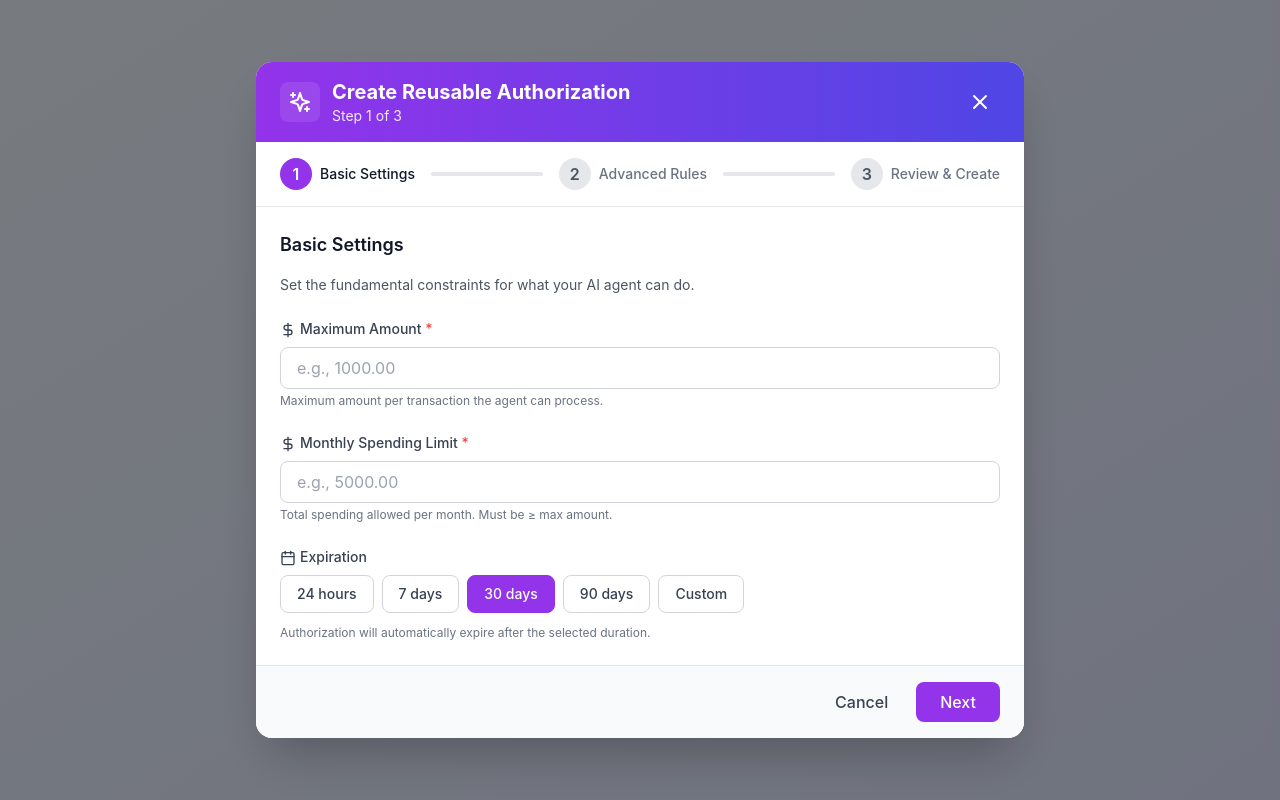
Test case: AP2 Components › ConstraintBuilder › should allow navigation between steps
Fill required fields before navigating
Type "500" into the number field with placeholder "e.g., 1000.00" at coordinates (640, 368), box top-left (280, 347), bottom-right (1000, 389)
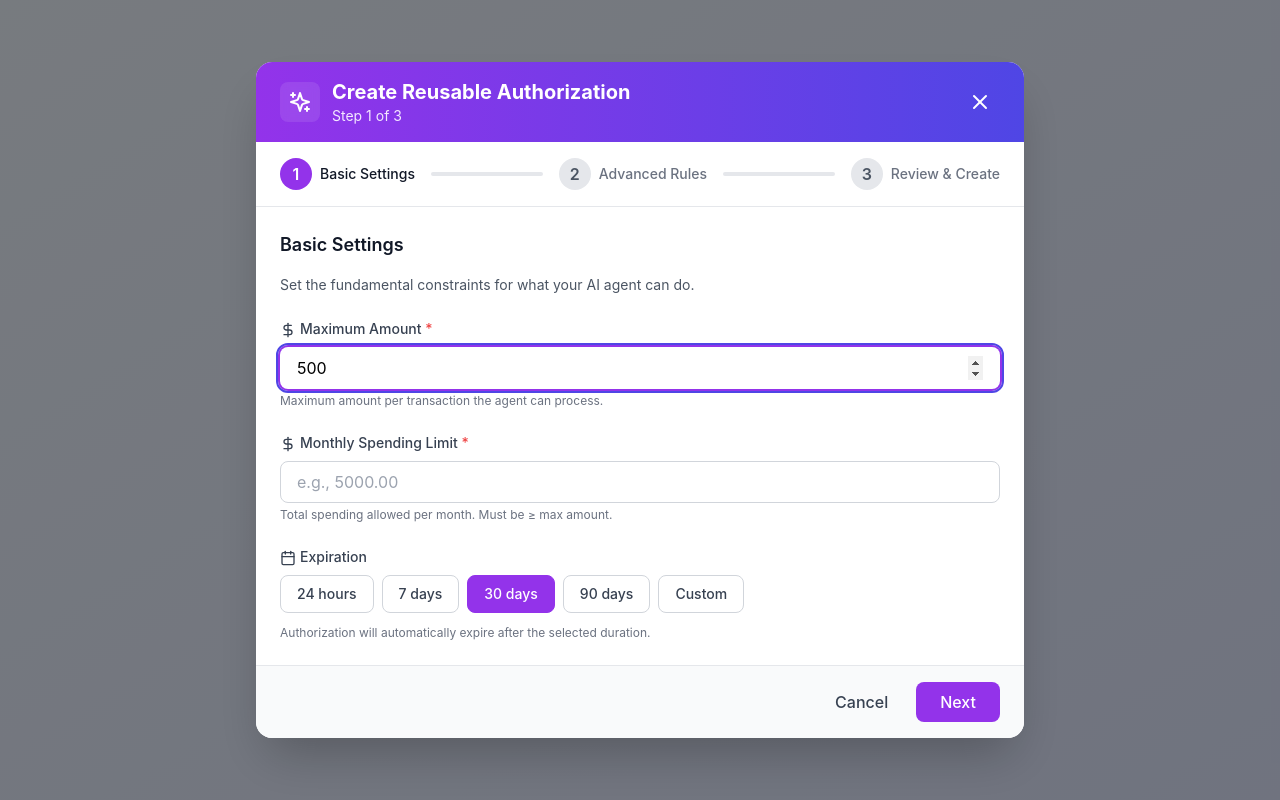
Type "5000" into the number field with placeholder "e.g., 5000.00" at coordinates (640, 482), box top-left (280, 461), bottom-right (1000, 503)
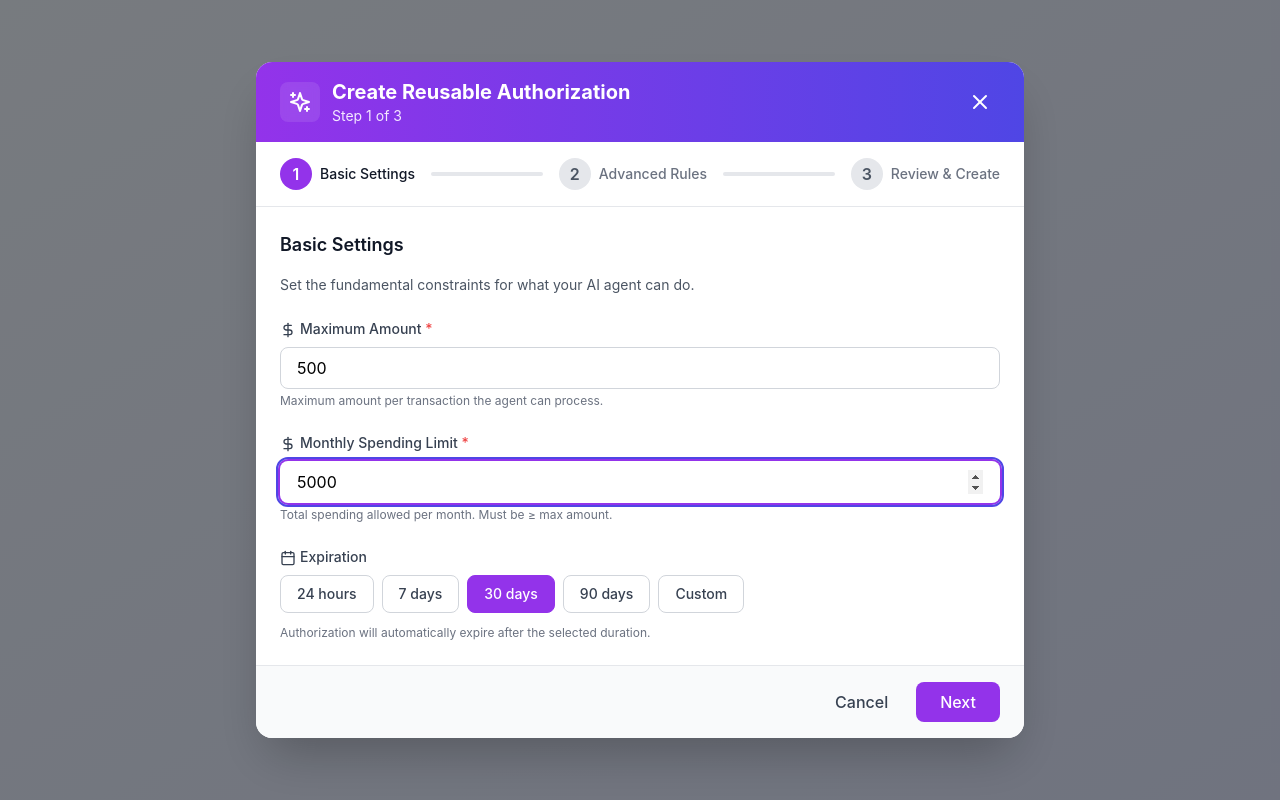
Click Next button to go to Step 2
Click the button "Next" at coordinates (958, 702), box top-left (916, 682), bottom-right (1000, 722)
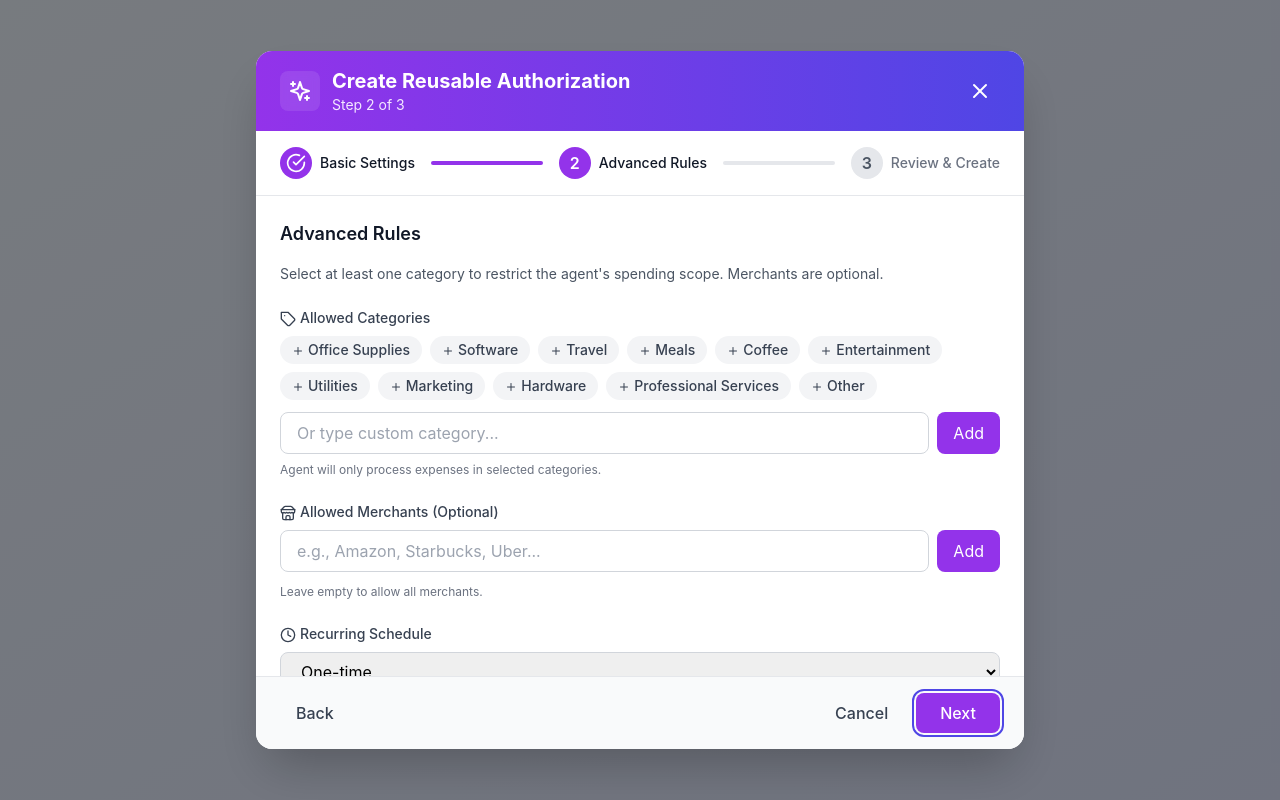
Expected: the text "Step 2 of 3" is shown, top-left (332, 96), bottom-right (405, 113)
